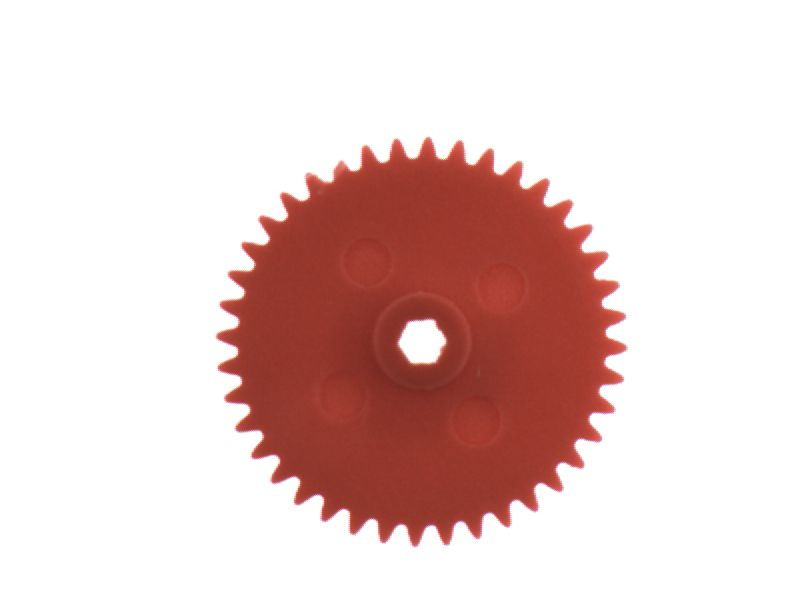defect_break: (323, 136, 362, 190)
